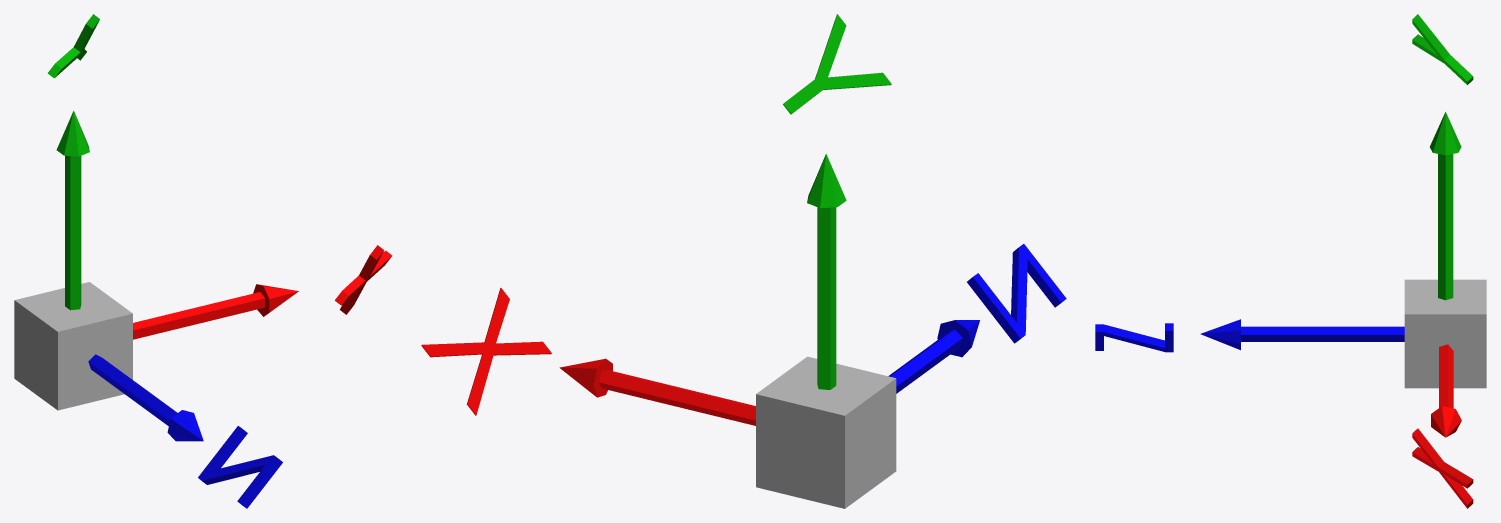
Rendered from axes.glb.
The picture shows the model from 3 angles, left to right: view 1: azimuth 30°, elevation 25°; view 2: azimuth 150°, elevation 25°; view 3: azimuth 270°, elevation 25°; orthographic projection. The views are drawn at different scales.
Size of what is drawn, in the model's own units: 49.41 by 49.39 by 47.78.
